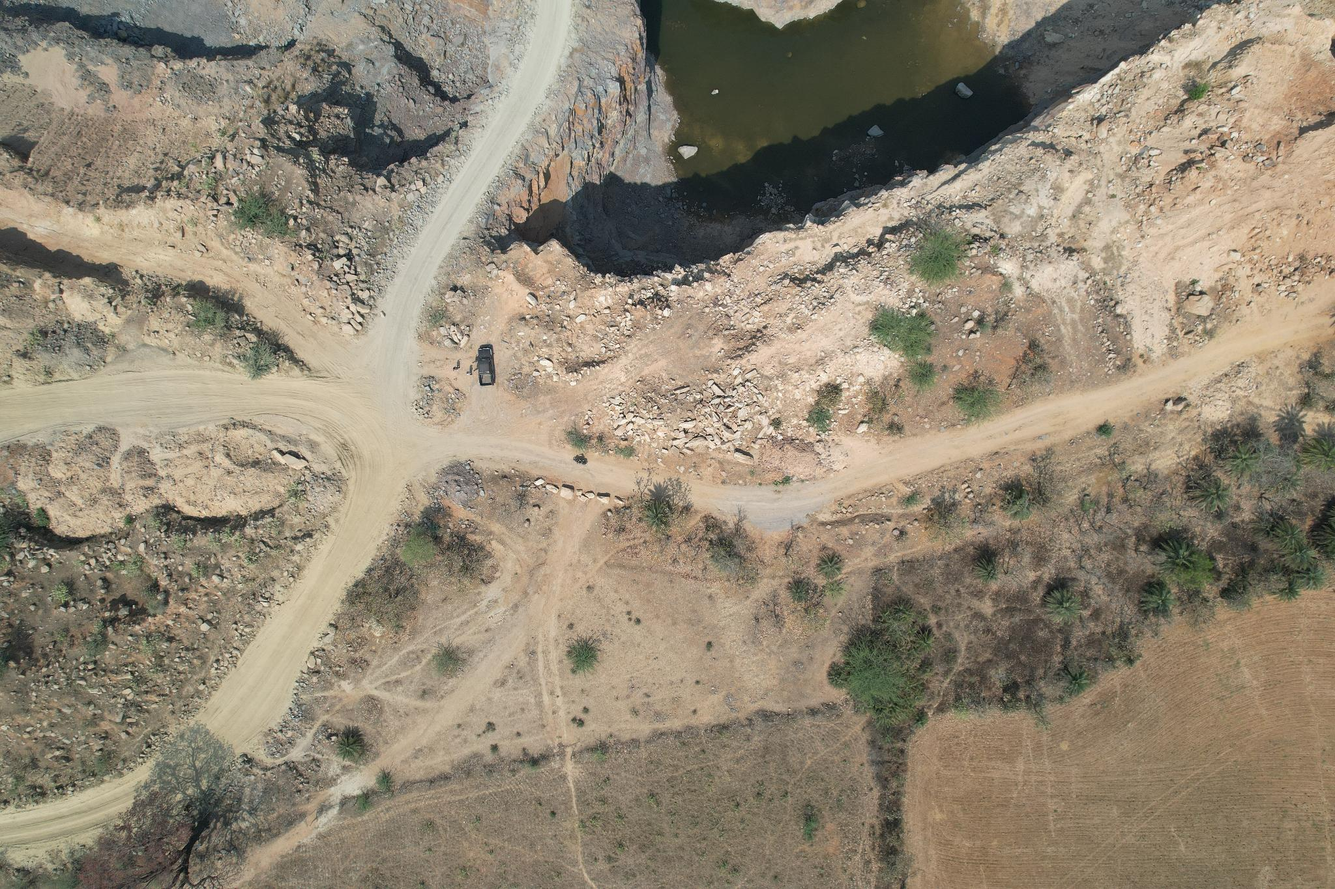benches: (0, 0, 635, 751), (694, 302, 1320, 533), (0, 769, 145, 855)
truck: (473, 346, 499, 388)
